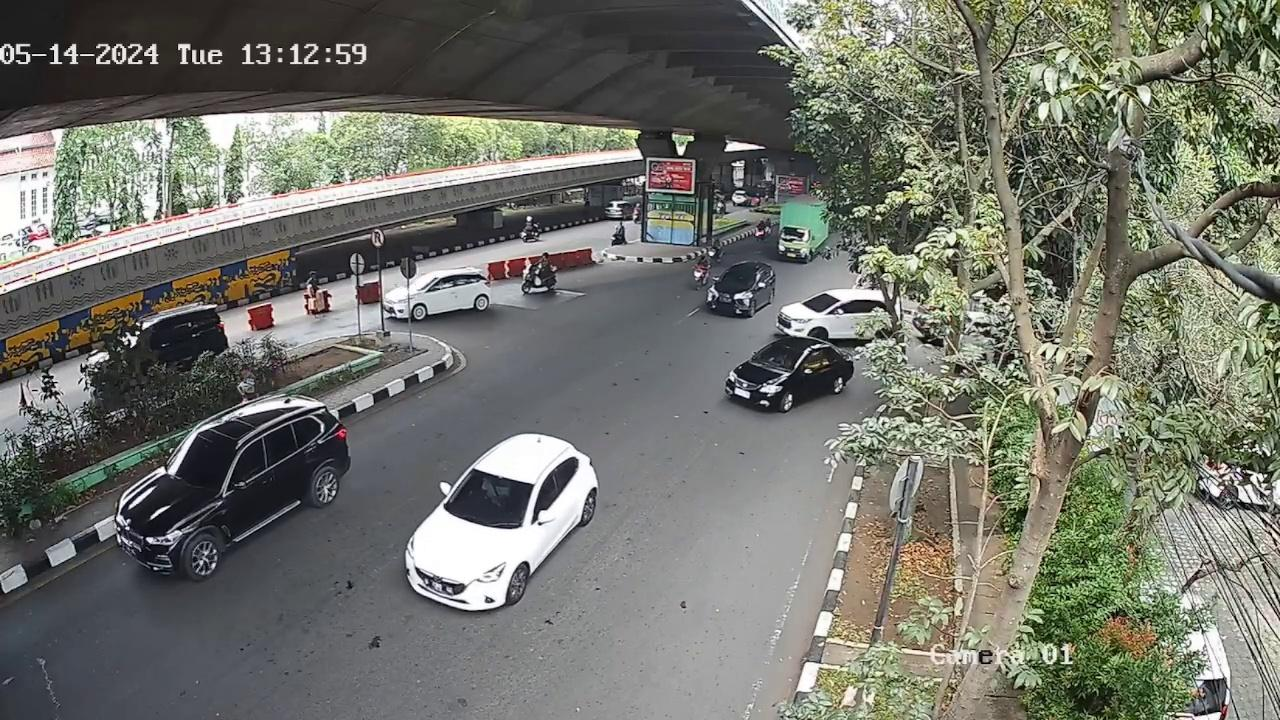pakai: (479, 476, 509, 511)
windshield: (153, 427, 246, 500), (446, 472, 534, 525)
